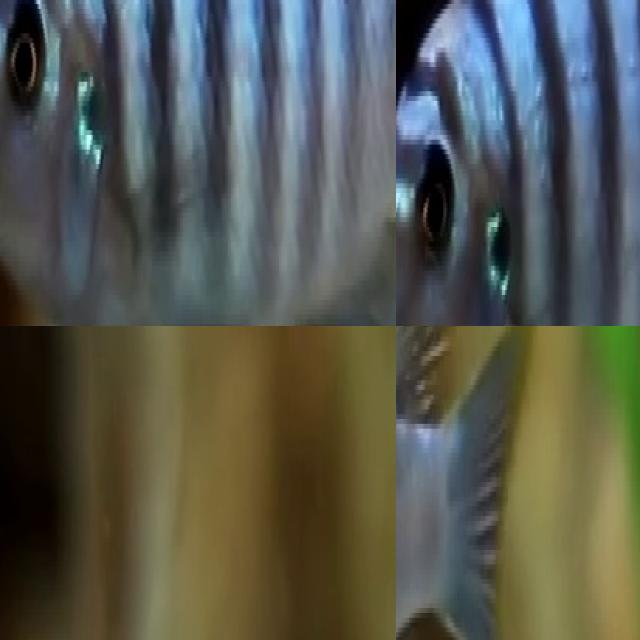fish: (0, 0, 396, 326), (396, 326, 527, 640)
